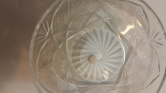Yuvarlak Buskopan: (87, 55, 97, 64)
